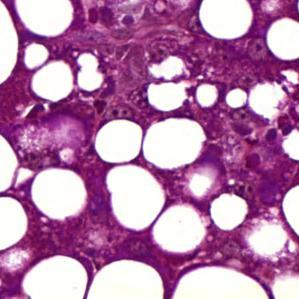steatosis: (34, 163, 88, 218), (99, 117, 143, 164), (210, 192, 250, 226)
